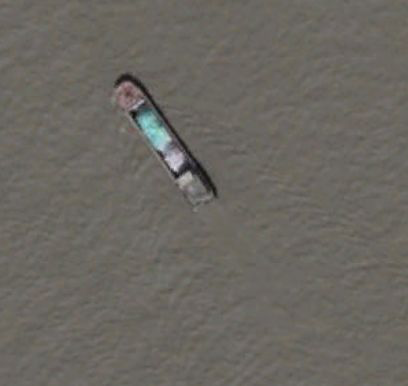boat: (113, 75, 218, 211)
